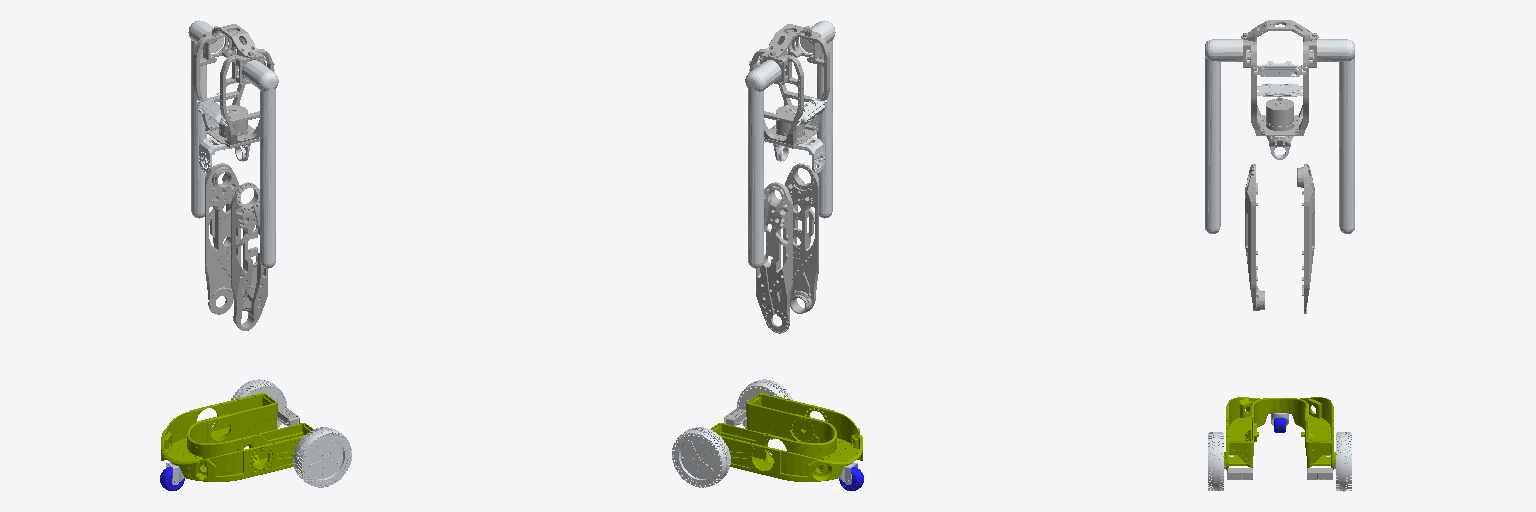
The robot description file, URDF, robot "urdf简化装配体1211.SLDASM":
<?xml version="1.0" encoding="utf-8"?>
<!-- This URDF was automatically created by SolidWorks to URDF Exporter! Originally created by Stephen Brawner (brawner@gmail.com) 
     Commit Version: 1.6.0-4-g7f85cfe  Build Version: 1.6.7995.38578
     For more information, please see http://wiki.ros.org/sw_urdf_exporter -->
<robot
  name="urdf简化装配体1211.SLDASM">
  <link
    name="base_link_1211_evt2">
    <inertial>
      <origin
        xyz="-0.205219826588883 -0.00319066223054669 0.00930572474901213"
        rpy="0 0 0" />
      <mass
        value="5.32413170017573" />
      <inertia
        ixx="0.077068959488456"
        ixy="0.000327924057164089"
        ixz="0.00212118306880777"
        iyy="0.0890185263360713"
        iyz="-0.000178878545674747"
        izz="0.157749815446039" />
    </inertial>
    <visual>
      <origin
        xyz="0 0 0"
        rpy="0 0 0" />
      <geometry>
        <mesh
          filename="../meshes/base_link_1211_evt2.STL" />
      </geometry>
      <material
        name="">
        <color
          rgba="0.584313725490196 0.701960784313725 0 1" />
      </material>
    </visual>
    <collision>
      <origin
        xyz="0 0 0"
        rpy="0 0 0" />
      <geometry>
        <mesh
          filename="../meshes/base_link_1211_evt2.STL" />
      </geometry>
    </collision>
  </link>
  <link
    name="caster yaw-u">
    <inertial>
      <origin
        xyz="-0.0129501147037586 9.62750396166388E-05 -0.0233043343307543"
        rpy="0 0 0" />
      <mass
        value="0.0281386444271825" />
      <inertia
        ixx="2.31034366246215E-05"
        ixy="-5.16494313749424E-08"
        ixz="6.28016538890743E-06"
        iyy="2.27519928541068E-05"
        iyz="-8.54639506616855E-08"
        izz="2.2118323644151E-05" />
    </inertial>
    <visual>
      <origin
        xyz="0 0 0"
        rpy="0 0 0" />
      <geometry>
        <mesh
          filename="../meshes/caster yaw-u.STL" />
      </geometry>
      <material
        name="">
        <color
          rgba="0.792156862745098 0.819607843137255 0.933333333333333 1" />
      </material>
    </visual>
    <collision>
      <origin
        xyz="0 0 0"
        rpy="0 0 0" />
      <geometry>
        <mesh
          filename="../meshes/caster yaw-u.STL" />
      </geometry>
    </collision>
  </link>
  <joint
    name="caster_yaw"
    type="continuous">
    <origin
      xyz="-0.385 0 -0.0012"
      rpy="0 0 0" />
    <parent
      link="base_link_1211_evt2" />
    <child
      link="caster yaw-u" />
    <axis
      xyz="0 0 -1" />
  </joint>
  <link
    name="caster wheel-u">
    <inertial>
      <origin
        xyz="-3.46552371799369E-08 -3.9582331067948E-10 2.04728648270369E-08"
        rpy="0 0 0" />
      <mass
        value="0.158596757595477" />
      <inertia
        ixx="7.1429488863188E-05"
        ixy="-4.53302765489401E-12"
        ixz="7.79431964293285E-11"
        iyy="0.000105900102876324"
        iyz="-2.18628395674214E-12"
        izz="7.14294622318801E-05" />
    </inertial>
    <visual>
      <origin
        xyz="0 0 0"
        rpy="0 0 0" />
      <geometry>
        <mesh
          filename="../meshes/caster wheel-u.STL" />
      </geometry>
      <material
        name="">
        <color
          rgba="0.192156862745098 0.176470588235294 1 1" />
      </material>
    </visual>
    <collision>
      <origin
        xyz="0 0 0"
        rpy="0 0 0" />
      <geometry>
        <mesh
          filename="../meshes/caster wheel-u.STL" />
      </geometry>
    </collision>
  </link>
  <joint
    name="caster_rotate"
    type="continuous">
    <origin
      xyz="-0.032 0 -0.0548"
      rpy="0 0 0" />
    <parent
      link="caster yaw-u" />
    <child
      link="caster wheel-u" />
    <axis
      xyz="0 -1 0" />
  </joint>
  <link
    name="right wheel-u">
    <inertial>
      <origin
        xyz="1.70257413224837E-05 -0.0452825834663686 1.78571751600683E-05"
        rpy="0 0 0" />
      <mass
        value="3.12432363443419" />
      <inertia
        ixx="0.00733898514589799"
        ixy="2.84709041202681E-08"
        ixz="3.42683479649129E-07"
        iyy="0.0135458543457778"
        iyz="1.88570775937042E-06"
        izz="0.00734161892644889" />
    </inertial>
    <visual>
      <origin
        xyz="0 0 0"
        rpy="0 0 0" />
      <geometry>
        <mesh
          filename="../meshes/right wheel-u.STL" />
      </geometry>
      <material
        name="">
        <color
          rgba="0.898039215686275 0.917647058823529 0.929411764705882 1" />
      </material>
    </visual>
    <collision>
      <origin
        xyz="0 0 0"
        rpy="0 0 0" />
      <geometry>
        <mesh
          filename="../meshes/right wheel-u.STL" />
      </geometry>
    </collision>
  </link>
  <joint
    name="right_wheel"
    type="continuous">
    <origin
      xyz="0 -0.15224 0"
      rpy="0 0 0" />
    <parent
      link="base_link_1211_evt2" />
    <child
      link="right wheel-u" />
    <axis
      xyz="0 -1 0" />
  </joint>
  <link
    name="left wheel-u">
    <inertial>
      <origin
        xyz="-1.70235268312915E-05 0.0452825841164715 1.78558407655708E-05"
        rpy="0 0 0" />
      <mass
        value="3.1243237213127" />
      <inertia
        ixx="0.00733898527717443"
        ixy="2.86530880823481E-08"
        ixz="-3.4282417915535E-07"
        iyy="0.0135458547434033"
        iyz="-1.88581084544857E-06"
        izz="0.00734161928610971" />
    </inertial>
    <visual>
      <origin
        xyz="0 0 0"
        rpy="0 0 0" />
      <geometry>
        <mesh
          filename="../meshes/left wheel-u.STL" />
      </geometry>
      <material
        name="">
        <color
          rgba="0.898039215686275 0.917647058823529 0.929411764705882 1" />
      </material>
    </visual>
    <collision>
      <origin
        xyz="0 0 0"
        rpy="0 0 0" />
      <geometry>
        <mesh
          filename="../meshes/left wheel-u.STL" />
      </geometry>
    </collision>
  </link>
  <joint
    name="left_wheel"
    type="continuous">
    <origin
      xyz="0 0.15224 0"
      rpy="0 0 0" />
    <parent
      link="base_link_1211_evt2" />
    <child
      link="left wheel-u" />
    <axis
      xyz="0 1 0" />
  </joint>
  <link
    name="right s10 camera-u">
    <inertial>
      <origin
        xyz="-0.0193750931985582 0.00178564972364571 1.98475055750245E-05"
        rpy="0 0 0" />
      <mass
        value="0.0843756764925001" />
      <inertia
        ixx="6.46106458428726E-05"
        ixy="4.34932818364867E-07"
        ixz="2.34262539121985E-09"
        iyy="8.86110260105309E-06"
        iyz="5.10274240213728E-09"
        izz="6.04881588853569E-05" />
    </inertial>
    <visual>
      <origin
        xyz="0 0 0"
        rpy="0 0 0" />
      <geometry>
        <mesh
          filename="../meshes/right s10 camera-u.STL" />
      </geometry>
      <material
        name="">
        <color
          rgba="0.752941176470588 0.752941176470588 0.752941176470588 1" />
      </material>
    </visual>
    <collision>
      <origin
        xyz="0 0 0"
        rpy="0 0 0" />
      <geometry>
        <mesh
          filename="../meshes/right s10 camera-u.STL" />
      </geometry>
    </collision>
  </link>
  <joint
    name="right s10 camera"
    type="fixed">
    <origin
      xyz="0.0854499999999999 -0.1245 -0.012"
      rpy="0 0 0" />
    <parent
      link="base_link_1211_evt2" />
    <child
      link="right s10 camera-u" />
    <axis
      xyz="0 0 0" />
  </joint>
  <link
    name="left s10 camera-u">
    <inertial>
      <origin
        xyz="-0.0193750931985582 -0.00178564972364573 -1.98475055750158E-05"
        rpy="0 0 0" />
      <mass
        value="0.0843756764925001" />
      <inertia
        ixx="6.46106458428725E-05"
        ixy="-4.34932818364862E-07"
        ixz="-2.34262539122401E-09"
        iyy="8.8611026010531E-06"
        iyz="5.10274240213598E-09"
        izz="6.04881588853568E-05" />
    </inertial>
    <visual>
      <origin
        xyz="0 0 0"
        rpy="0 0 0" />
      <geometry>
        <mesh
          filename="../meshes/left s10 camera-u.STL" />
      </geometry>
      <material
        name="">
        <color
          rgba="0.752941176470588 0.752941176470588 0.752941176470588 1" />
      </material>
    </visual>
    <collision>
      <origin
        xyz="0 0 0"
        rpy="0 0 0" />
      <geometry>
        <mesh
          filename="../meshes/left s10 camera-u.STL" />
      </geometry>
    </collision>
  </link>
  <joint
    name="left s10 camera-u"
    type="fixed">
    <origin
      xyz="0.08545 0.1245 -0.012"
      rpy="0 0 0" />
    <parent
      link="base_link_1211_evt2" />
    <child
      link="left s10 camera-u" />
    <axis
      xyz="0 0 0" />
  </joint>
  <link
    name="lower leg-u">
    <inertial>
      <origin
        xyz="0.002271028452796 0.0466715145561337 0.211545614238825"
        rpy="0 0 0" />
      <mass
        value="3.04109217978147" />
      <inertia
        ixx="0.0553928569794445"
        ixy="-1.66431569298422E-05"
        ixz="-1.79970554795093E-05"
        iyy="0.0585723622890167"
        iyz="-0.000301744475753265"
        izz="0.00354433038253933" />
    </inertial>
    <visual>
      <origin
        xyz="0 0 0"
        rpy="0 0 0" />
      <geometry>
        <mesh
          filename="../meshes/lower leg-u.STL" />
      </geometry>
      <material
        name="">
        <color
          rgba="0.752941176470588 0.752941176470588 0.752941176470588 1" />
      </material>
    </visual>
    <collision>
      <origin
        xyz="0 0 0"
        rpy="0 0 0" />
      <geometry>
        <mesh
          filename="../meshes/lower leg-u.STL" />
      </geometry>
    </collision>
  </link>
  <joint
    name="ankle"
    type="revolute">
    <origin
      xyz="-0.2 -0.0453 0.0275"
      rpy="0 0 0" />
    <parent
      link="base_link_1211_evt2" />
    <child
      link="lower leg-u" />
    <axis
      xyz="0 -1 0" />
    <limit
      lower="0"
      upper="0"
      effort="0"
      velocity="0" />
  </joint>
  <link
    name="upper leg-u">
    <inertial>
      <origin
        xyz="0.00897832581669258 -0.0356025389051581 0.227376644146869"
        rpy="0 0 0" />
      <mass
        value="4.43682542121962" />
      <inertia
        ixx="0.0735747532706167"
        ixy="-2.35931553225244E-06"
        ixz="6.49665780501134E-05"
        iyy="0.0784506798575518"
        iyz="-0.000842894229728947"
        izz="0.00566071753069115" />
    </inertial>
    <visual>
      <origin
        xyz="0 0 0"
        rpy="0 0 0" />
      <geometry>
        <mesh
          filename="../meshes/upper leg-u.STL" />
      </geometry>
      <material
        name="">
        <color
          rgba="0.752941176470588 0.752941176470588 0.752941176470588 1" />
      </material>
    </visual>
    <collision>
      <origin
        xyz="0 0 0"
        rpy="0 0 0" />
      <geometry>
        <mesh
          filename="../meshes/upper leg-u.STL" />
      </geometry>
    </collision>
  </link>
  <joint
    name="knee"
    type="revolute">
    <origin
      xyz="0 0.0856 0.434"
      rpy="0 0 0" />
    <parent
      link="lower leg-u" />
    <child
      link="upper leg-u" />
    <axis
      xyz="0 1 0" />
    <limit
      lower="0"
      upper="0"
      effort="0"
      velocity="0" />
  </joint>
  <link
    name="waist pitch">
    <inertial>
      <origin
        xyz="-0.0420070314111673 0.0428332861415177 0.0830909996428791"
        rpy="0 0 0" />
      <mass
        value="2.26301728385751" />
      <inertia
        ixx="0.00496622900150261"
        ixy="1.82218696141319E-05"
        ixz="-6.90812251657797E-05"
        iyy="0.00482936154365453"
        iyz="-0.000219635180470962"
        izz="0.00530276052695341" />
    </inertial>
    <visual>
      <origin
        xyz="0 0 0"
        rpy="0 0 0" />
      <geometry>
        <mesh
          filename="../meshes/waist pitch.STL" />
      </geometry>
      <material
        name="">
        <color
          rgba="0.752941176470588 0.752941176470588 0.752941176470588 1" />
      </material>
    </visual>
    <collision>
      <origin
        xyz="0 0 0"
        rpy="0 0 0" />
      <geometry>
        <mesh
          filename="../meshes/waist pitch.STL" />
      </geometry>
    </collision>
  </link>
  <joint
    name="hip"
    type="revolute">
    <origin
      xyz="0 -0.0806 0.4222"
      rpy="0 0 0" />
    <parent
      link="upper leg-u" />
    <child
      link="waist pitch" />
    <axis
      xyz="0 -1 0" />
    <limit
      lower="0"
      upper="0"
      effort="0"
      velocity="0" />
  </joint>
  <link
    name="waist roll-u">
    <inertial>
      <origin
        xyz="-0.0167723542590401 6.40679188065786E-07 0.0393792002417104"
        rpy="0 0 0" />
      <mass
        value="0.569026984067384" />
      <inertia
        ixx="0.000594662338799633"
        ixy="1.41183101762885E-09"
        ixz="0.000218767277279619"
        iyy="0.00104987361874437"
        iyz="5.27569787668385E-09"
        izz="0.00112599325870886" />
    </inertial>
    <visual>
      <origin
        xyz="0 0 0"
        rpy="0 0 0" />
      <geometry>
        <mesh
          filename="../meshes/waist roll-u.STL" />
      </geometry>
      <material
        name="">
        <color
          rgba="0.898039215686275 0.917647058823529 0.929411764705882 1" />
      </material>
    </visual>
    <collision>
      <origin
        xyz="0 0 0"
        rpy="0 0 0" />
      <geometry>
        <mesh
          filename="../meshes/waist roll-u.STL" />
      </geometry>
    </collision>
  </link>
  <joint
    name="waist_roll"
    type="revolute">
    <origin
      xyz="-0.0072 0.0403 0.1057"
      rpy="0 0 0" />
    <parent
      link="waist pitch" />
    <child
      link="waist roll-u" />
    <axis
      xyz="-1 0 0" />
    <limit
      lower="0"
      upper="0"
      effort="0"
      velocity="0" />
  </joint>
  <link
    name="waist yaw-u">
    <inertial>
      <origin
        xyz="-2.43500335403157E-05 4.49919131860735E-07 0.0475349482896943"
        rpy="0 0 0" />
      <mass
        value="3.95035372080972" />
      <inertia
        ixx="0.0243678370703529"
        ixy="-1.78050959354361E-07"
        ixz="-1.15159524812175E-06"
        iyy="0.0284163020665568"
        iyz="-7.38282119707497E-08"
        izz="0.0102399152656495" />
    </inertial>
    <visual>
      <origin
        xyz="0 0 0"
        rpy="0 0 0" />
      <geometry>
        <mesh
          filename="../meshes/waist yaw-u.STL" />
      </geometry>
      <material
        name="">
        <color
          rgba="0.752941176470588 0.752941176470588 0.752941176470588 1" />
      </material>
    </visual>
    <collision>
      <origin
        xyz="0 0 0"
        rpy="0 0 0" />
      <geometry>
        <mesh
          filename="../meshes/waist yaw-u.STL" />
      </geometry>
    </collision>
  </link>
  <joint
    name="waist_yaw"
    type="revolute">
    <origin
      xyz="0.0072 0 0.1473"
      rpy="0 0 0" />
    <parent
      link="waist roll-u" />
    <child
      link="waist yaw-u" />
    <axis
      xyz="0 0 -1" />
    <limit
      lower="0"
      upper="0"
      effort="0"
      velocity="0" />
  </joint>
  <link
    name="right arm-u">
    <inertial>
      <origin
        xyz="-9.30497375262185E-08 -0.0830358934153477 -0.238075308800077"
        rpy="0 0 0" />
      <mass
        value="4.29277834452243" />
      <inertia
        ixx="0.184539290583454"
        ixy="-5.12205167463425E-09"
        ixz="8.81064105172268E-08"
        iyy="0.182495963672371"
        iyz="0.0101884917990918"
        izz="0.00370909004441352" />
    </inertial>
    <visual>
      <origin
        xyz="0 0 0"
        rpy="0 0 0" />
      <geometry>
        <mesh
          filename="../meshes/right arm-u.STL" />
      </geometry>
      <material
        name="">
        <color
          rgba="0.898039215686275 0.917647058823529 0.929411764705882 1" />
      </material>
    </visual>
    <collision>
      <origin
        xyz="0 0 0"
        rpy="0 0 0" />
      <geometry>
        <mesh
          filename="../meshes/right arm-u.STL" />
      </geometry>
    </collision>
  </link>
  <joint
    name="right_arm_pitch"
    type="revolute">
    <origin
      xyz="0 -0.117 0.1852"
      rpy="0 0 0" />
    <parent
      link="waist yaw-u" />
    <child
      link="right arm-u" />
    <axis
      xyz="0 -1 0" />
    <limit
      lower="0"
      upper="0"
      effort="0"
      velocity="0" />
  </joint>
  <link
    name="left arm-u">
    <inertial>
      <origin
        xyz="9.30497404405539E-08 0.0830358934153527 -0.238075308800077"
        rpy="0 0 0" />
      <mass
        value="4.29277834452243" />
      <inertia
        ixx="0.184539290583453"
        ixy="-5.12205167595265E-09"
        ixz="-8.81064105329898E-08"
        iyy="0.182495963672371"
        iyz="-0.0101884917990919"
        izz="0.00370909004441354" />
    </inertial>
    <visual>
      <origin
        xyz="0 0 0"
        rpy="0 0 0" />
      <geometry>
        <mesh
          filename="../meshes/left arm-u.STL" />
      </geometry>
      <material
        name="">
        <color
          rgba="0.898039215686275 0.917647058823529 0.929411764705882 1" />
      </material>
    </visual>
    <collision>
      <origin
        xyz="0 0 0"
        rpy="0 0 0" />
      <geometry>
        <mesh
          filename="../meshes/left arm-u.STL" />
      </geometry>
    </collision>
  </link>
  <joint
    name="left_arm_pitch"
    type="revolute">
    <origin
      xyz="0 0.117 0.1852"
      rpy="0 0 0" />
    <parent
      link="waist yaw-u" />
    <child
      link="left arm-u" />
    <axis
      xyz="0 1 0" />
    <limit
      lower="0"
      upper="0"
      effort="0"
      velocity="0" />
  </joint>
  <link
    name="lidar-u">
    <inertial>
      <origin
        xyz="-0.0226622511044115 -0.00027569771863315 0.0156436642987809"
        rpy="0 0 0" />
      <mass
        value="0.70846271542868" />
      <inertia
        ixx="0.000587465343088863"
        ixy="1.8256679643387E-08"
        ixz="-1.08244066750393E-06"
        iyy="0.000257608749379764"
        iyz="-1.1250734527194E-07"
        izz="0.000374175596350568" />
    </inertial>
    <visual>
      <origin
        xyz="0 0 0"
        rpy="0 0 0" />
      <geometry>
        <mesh
          filename="../meshes/lidar-u.STL" />
      </geometry>
      <material
        name="">
        <color
          rgba="0.898039215686275 0.917647058823529 0.929411764705882 1" />
      </material>
    </visual>
    <collision>
      <origin
        xyz="0 0 0"
        rpy="0 0 0" />
      <geometry>
        <mesh
          filename="../meshes/lidar-u.STL" />
      </geometry>
    </collision>
  </link>
  <joint
    name="lidar"
    type="fixed">
    <origin
      xyz="0.089501 0 -0.023"
      rpy="0 0 0" />
    <parent
      link="waist yaw-u" />
    <child
      link="lidar-u" />
    <axis
      xyz="0 0 0" />
  </joint>
  <link
    name="345 camera front-u">
    <inertial>
      <origin
        xyz="-0.0214721123676205 0.000657123112147633 0.000702337415614096"
        rpy="0 0 0" />
      <mass
        value="0.215759522799549" />
      <inertia
        ixx="0.000351317647469958"
        ixy="1.38037225219042E-06"
        ixz="-1.11576551220952E-06"
        iyy="4.80765478335487E-05"
        iyz="5.07190820068644E-07"
        izz="0.0003343587987428" />
    </inertial>
    <visual>
      <origin
        xyz="0 0 0"
        rpy="0 0 0" />
      <geometry>
        <mesh
          filename="../meshes/345 camera front-u.STL" />
      </geometry>
      <material
        name="">
        <color
          rgba="0.898039215686275 0.917647058823529 0.929411764705882 1" />
      </material>
    </visual>
    <collision>
      <origin
        xyz="0 0 0"
        rpy="0 0 0" />
      <geometry>
        <mesh
          filename="../meshes/345 camera front-u.STL" />
      </geometry>
    </collision>
  </link>
  <joint
    name="345 camera front"
    type="fixed">
    <origin
      xyz="0.1082 0 0.1582"
      rpy="0 0 0" />
    <parent
      link="waist yaw-u" />
    <child
      link="345 camera front-u" />
    <axis
      xyz="0 0 0" />
  </joint>
  <link
    name="345 camera back-u">
    <inertial>
      <origin
        xyz="0.0213565731421667 0.000659922380182861 -0.000708797571272513"
        rpy="0 0 0" />
      <mass
        value="0.214450000212721" />
      <inertia
        ixx="0.00034452917733791"
        ixy="-1.38523094507927E-06"
        ixz="-9.49127784147705E-07"
        iyy="4.80332551446936E-05"
        iyz="-5.4040636668883E-07"
        izz="0.000328233929723538" />
    </inertial>
    <visual>
      <origin
        xyz="0 0 0"
        rpy="0 0 0" />
      <geometry>
        <mesh
          filename="../meshes/345 camera back-u.STL" />
      </geometry>
      <material
        name="">
        <color
          rgba="0.898039215686275 0.917647058823529 0.929411764705882 1" />
      </material>
    </visual>
    <collision>
      <origin
        xyz="0 0 0"
        rpy="0 0 0" />
      <geometry>
        <mesh
          filename="../meshes/345 camera back-u.STL" />
      </geometry>
    </collision>
  </link>
  <joint
    name="345 camera back"
    type="fixed">
    <origin
      xyz="-0.088039 0 0.0056"
      rpy="0 -0.5236 0" />
    <parent
      link="waist yaw-u" />
    <child
      link="345 camera back-u" />
    <axis
      xyz="0 0 0" />
  </joint>
</robot>

--- What the picture shows (computed from the rendered views, not written in the file) ---
The picture shows the robot from 3 angles, left to right: view 1: azimuth 30°, elevation 25°; view 2: azimuth 150°, elevation 25°; view 3: azimuth 270°, elevation 25°; orthographic projection.
Robot: urdf简化装配体1211.SLDASM — 17 links, 16 joints (7 revolute, 4 continuous, 5 fixed); root link base_link_1211_evt2; default pose: all joints at 0.
Visible links, largest first — view 1: base_link_1211_evt2, upper leg-u, waist yaw-u, right arm-u, right wheel-u, left arm-u, left wheel-u, waist roll-u; view 2: base_link_1211_evt2, upper leg-u, waist yaw-u, left arm-u, left wheel-u, right arm-u, right wheel-u, waist roll-u; view 3: base_link_1211_evt2, waist yaw-u, right arm-u, left arm-u, upper leg-u, right wheel-u, left wheel-u, 345 camera front-u, 345 camera back-u.
Boxes of the visible links, <box> form: base_link_1211_evt2: <box>161,393,312,481</box>; upper leg-u: <box>205,163,267,330</box>; waist yaw-u: <box>193,24,273,147</box>; right arm-u: <box>243,60,278,268</box>; right wheel-u: <box>293,427,351,487</box>; left arm-u: <box>188,20,223,218</box>; left wheel-u: <box>231,379,286,428</box>; waist roll-u: <box>199,137,250,172</box>; base_link_1211_evt2: <box>711,393,862,481</box>; upper leg-u: <box>756,163,818,333</box>; waist yaw-u: <box>750,24,829,147</box>; left arm-u: <box>745,60,780,268</box>; left wheel-u: <box>672,427,730,487</box>; right arm-u: <box>800,20,835,218</box>; right wheel-u: <box>737,379,792,439</box>; waist roll-u: <box>773,137,824,172</box>; base_link_1211_evt2: <box>1224,397,1335,469</box>; waist yaw-u: <box>1241,20,1318,135</box>; right arm-u: <box>1205,39,1242,233</box>; left arm-u: <box>1317,39,1354,233</box>; upper leg-u: <box>1245,164,1314,313</box>; right wheel-u: <box>1208,432,1233,490</box>; left wheel-u: <box>1326,432,1351,491</box>; 345 camera front-u: <box>1252,61,1307,76</box>; 345 camera back-u: <box>1257,83,1302,96</box>.
Size in the robot's own frame: 0.5479 by 0.47 by 1.51 metres.
Meshes: 17 distinct files referenced, 14 mesh visuals loaded (14 binary STL); not drawn: 3 (reference not matched to a file when rendering).
